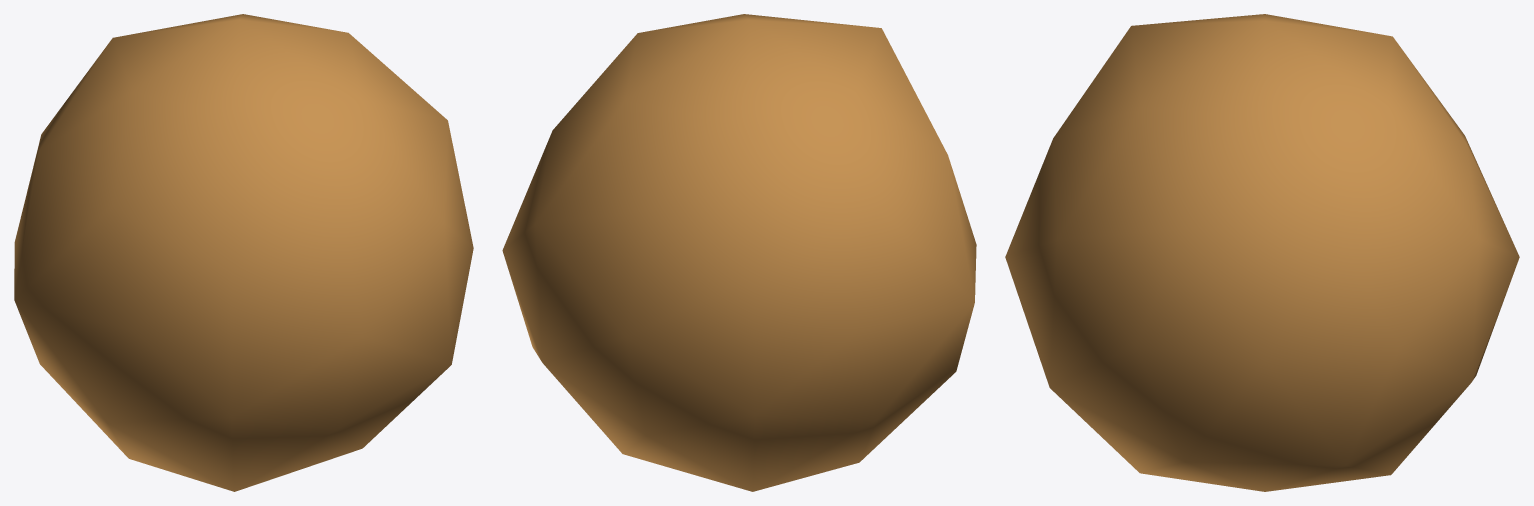
The model's file is buzz.glb.
The picture shows the model from 3 angles, left to right: view 1: azimuth 30°, elevation 25°; view 2: azimuth 150°, elevation 25°; view 3: azimuth 270°, elevation 25°; orthographic projection. The views are drawn at different scales.
Parts seen in each view (by area): view 1: world; view 2: world; view 3: world.
Boxes of the visible parts, <box> form: world: <box>14,14,473,491</box>; world: <box>502,14,976,491</box>; world: <box>1005,14,1519,491</box>.
Size of the model in its own units: 17.44 by 16.9 by 17.29.
